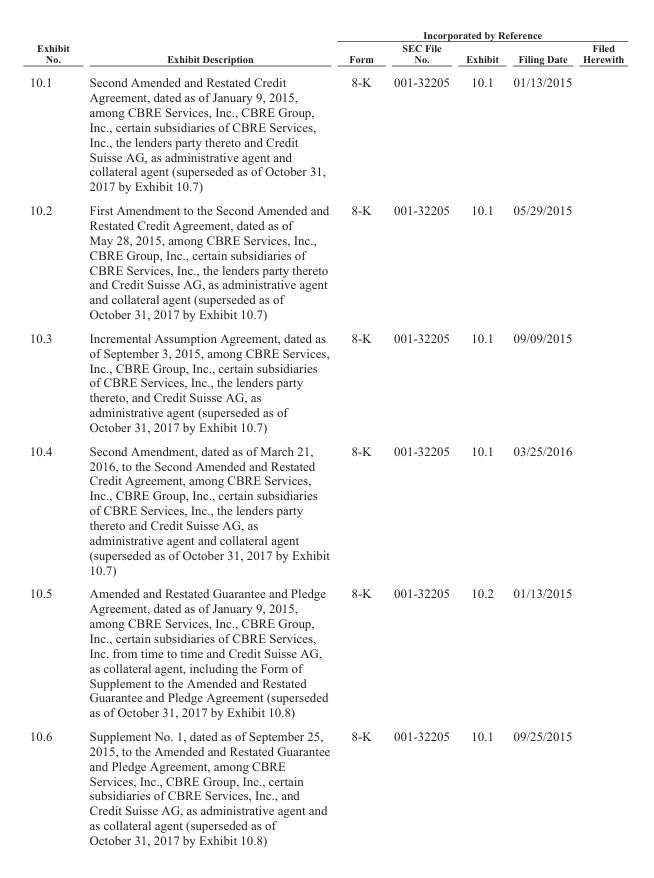table: (28, 28, 623, 846)
table column: (78, 28, 338, 846), (382, 28, 457, 846), (505, 28, 576, 846), (28, 28, 78, 846), (457, 28, 505, 846), (576, 28, 623, 846), (338, 28, 382, 846)
table column header: (28, 28, 623, 69)
table row: (28, 438, 623, 581), (28, 581, 623, 723), (28, 69, 623, 197), (28, 197, 623, 325), (28, 723, 623, 846), (28, 325, 623, 438), (28, 40, 623, 69), (28, 28, 623, 40)
table spanning cell: (78, 28, 338, 69), (338, 28, 623, 40), (28, 28, 78, 69)
